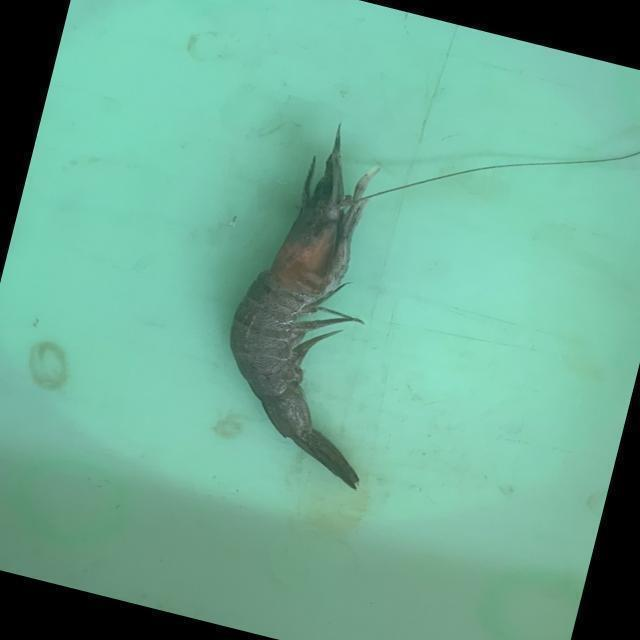shrimp: (229, 127, 377, 489)
